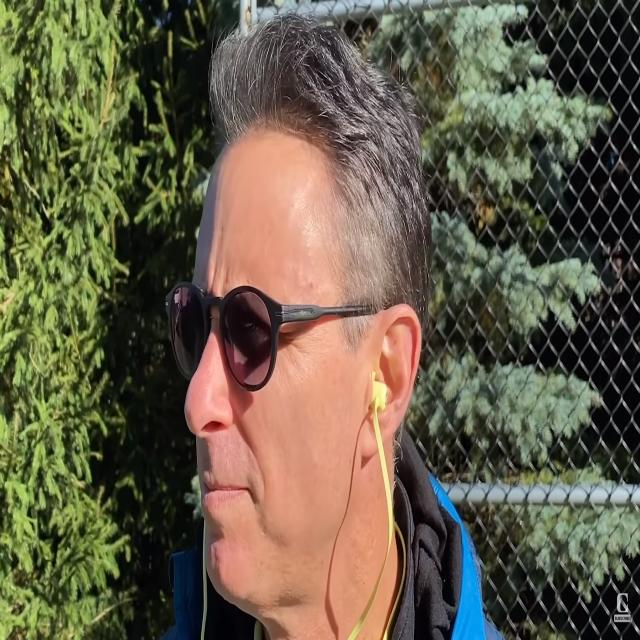Neckband: (199, 379, 395, 640)
